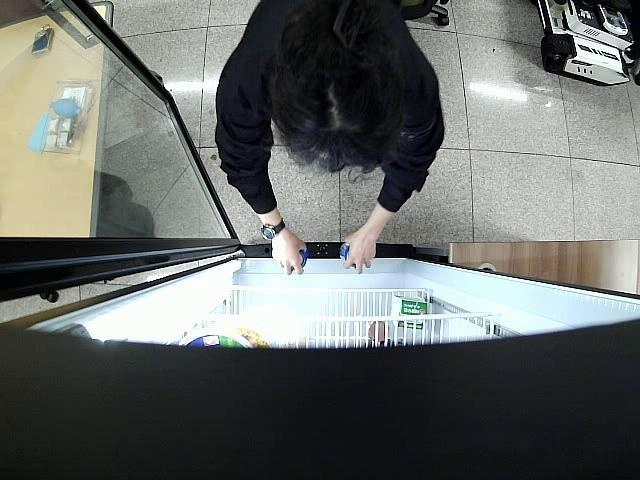13_pocariSweat: (338, 242, 351, 262), (298, 250, 308, 267)
